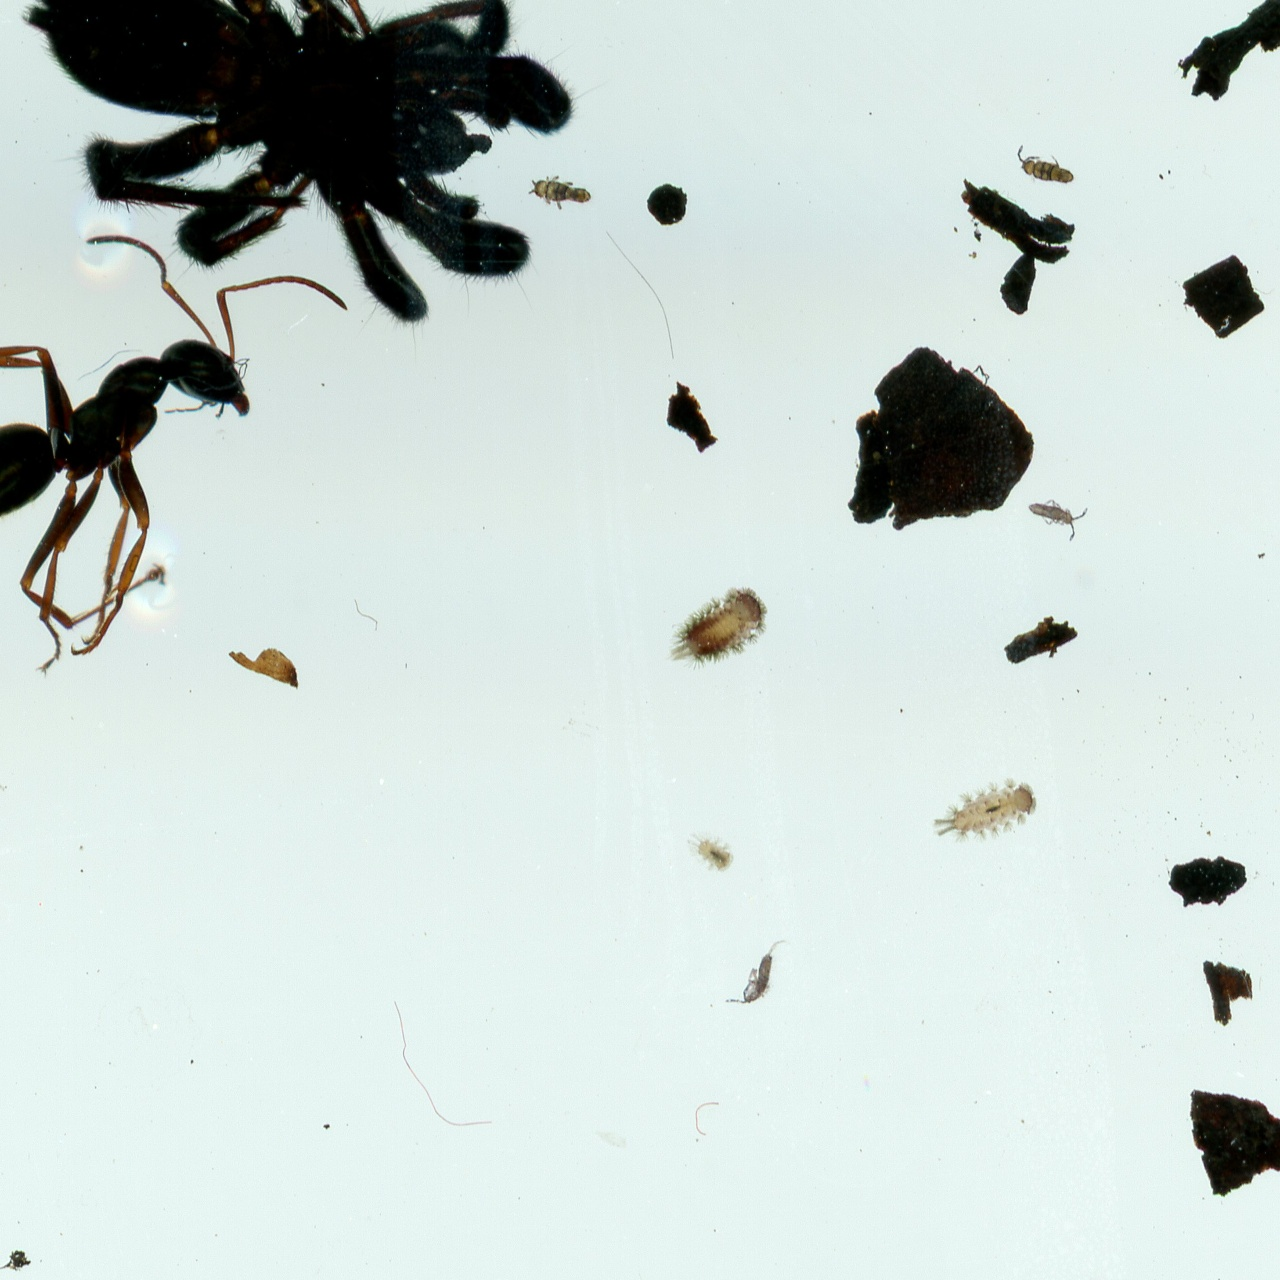arthropod: (18, 0, 620, 370), (0, 230, 352, 680), (644, 566, 791, 696), (917, 762, 1053, 866), (720, 924, 798, 1019), (1016, 491, 1099, 549), (1015, 141, 1077, 188), (679, 829, 738, 877), (527, 176, 595, 212)
